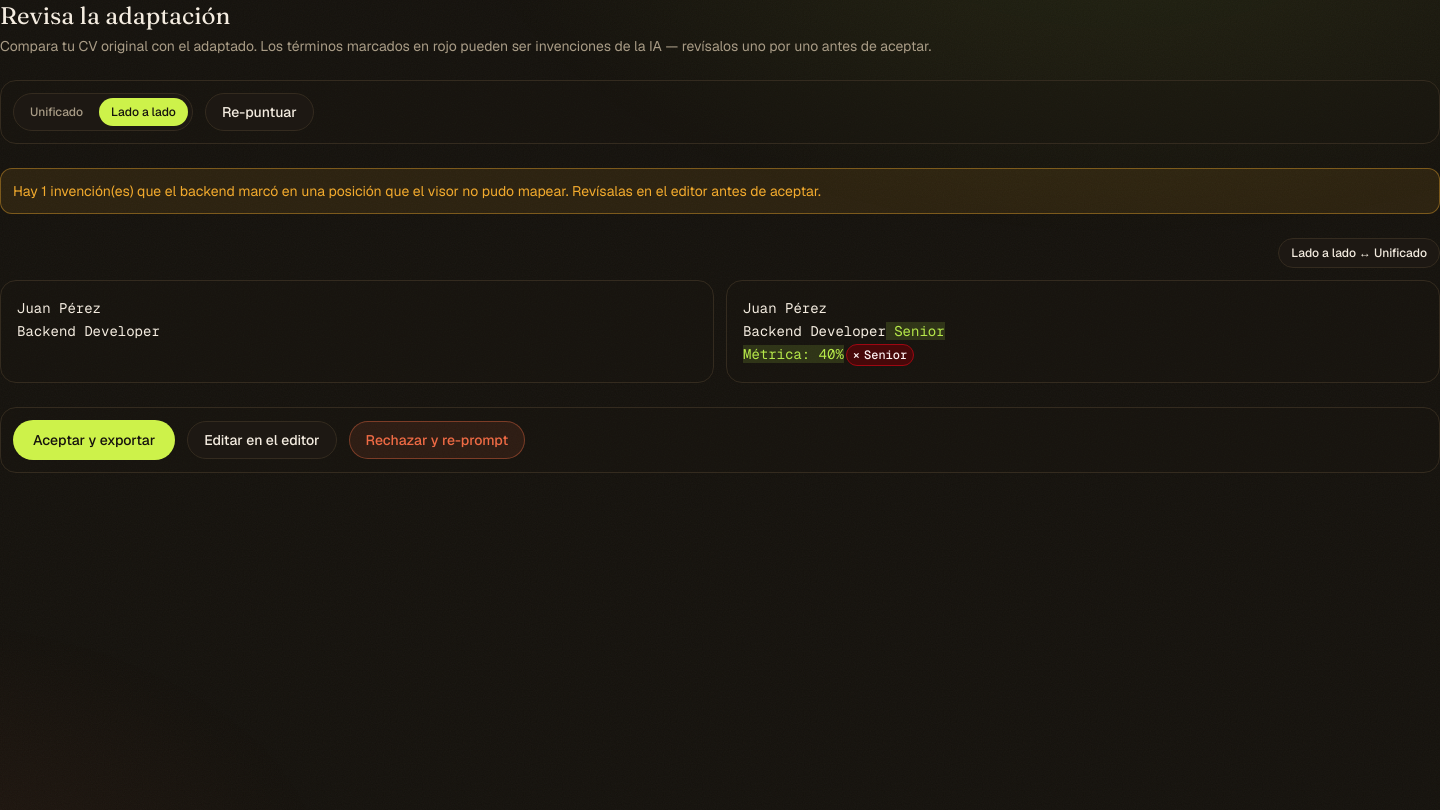
Test case: DiffPage › click Editar en un badge → muestra un input controlado con Zod validation
Expected: the element named "diff" is shown, top-left (0, 238), bottom-right (1439, 382)
# Click sobre el badge "Senior" (Hard)
Click the button "× Senior" at point(880, 354), box top-left (846, 344), bottom-right (914, 366)
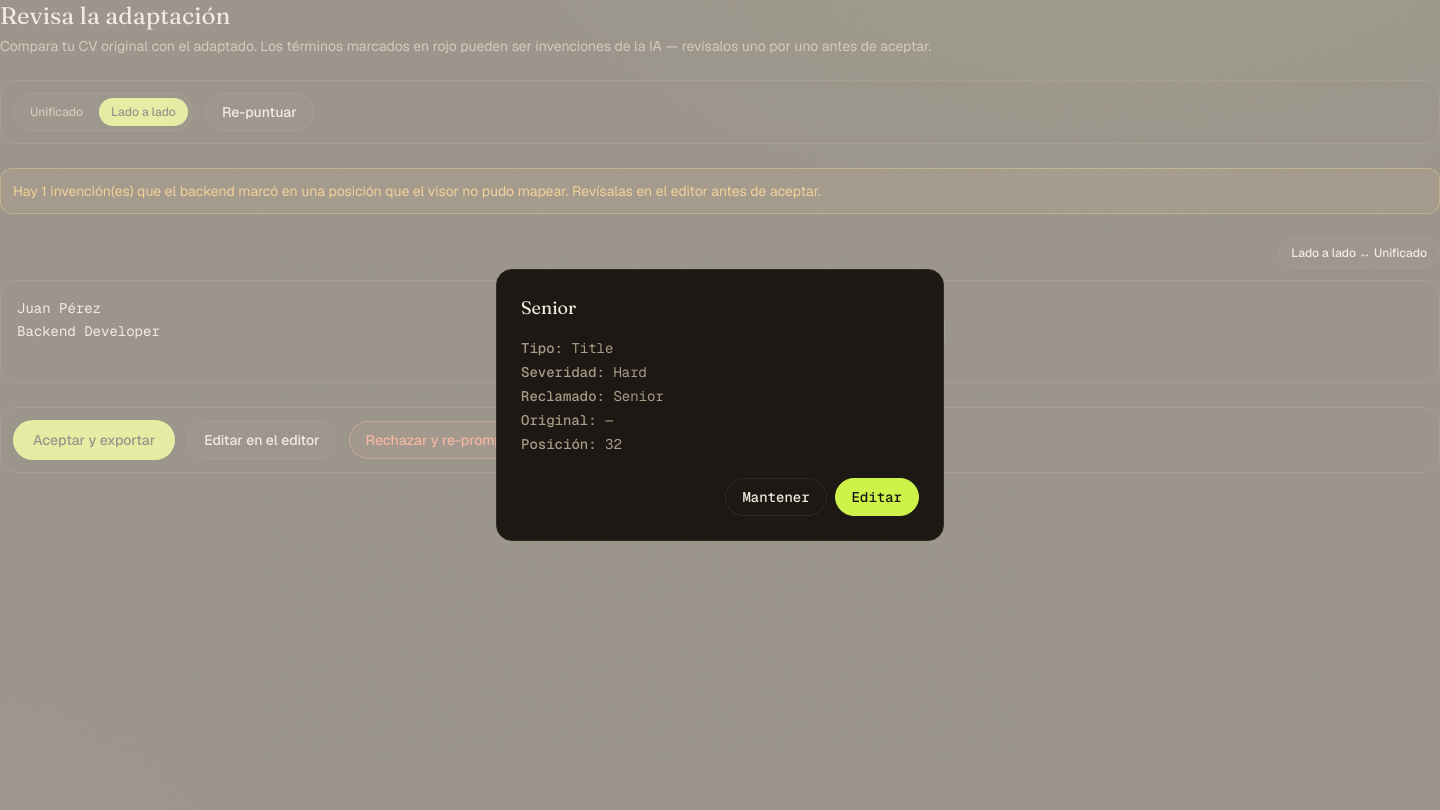
Expected: the dialog is shown
Expected: the button "Editar" is shown
Click the button "Editar" at point(877, 497), box top-left (835, 478), bottom-right (919, 516)
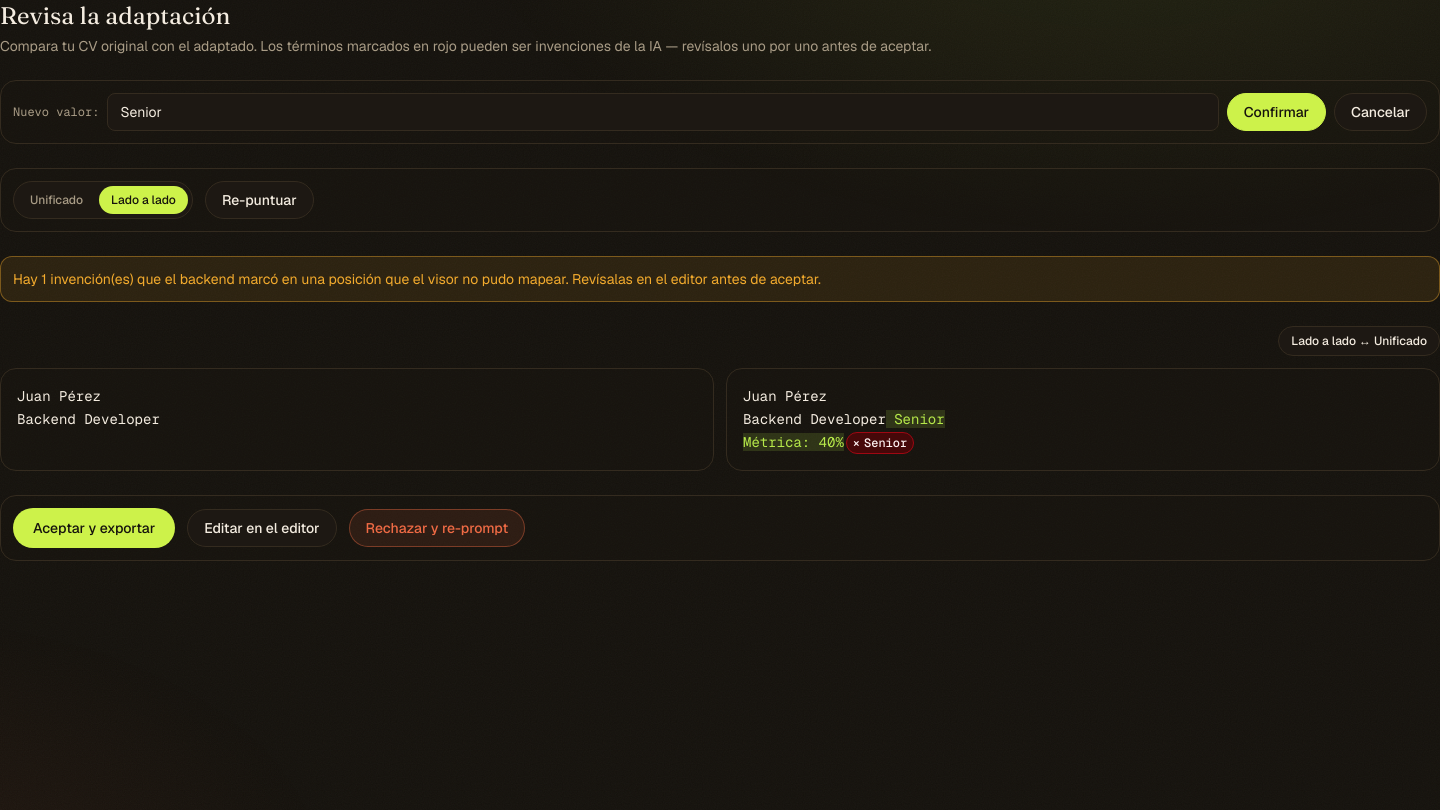
Expected: the field holds "Senior", top-left (107, 93), bottom-right (1219, 131)
